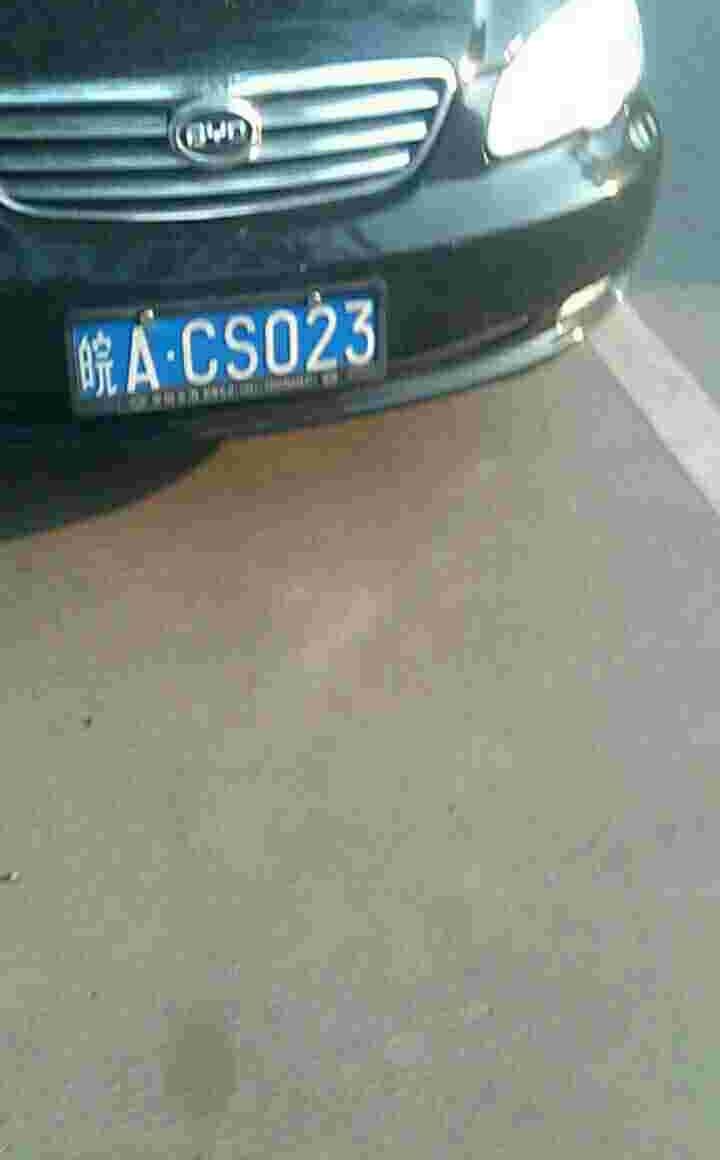license_plate: (75, 289, 385, 397)
